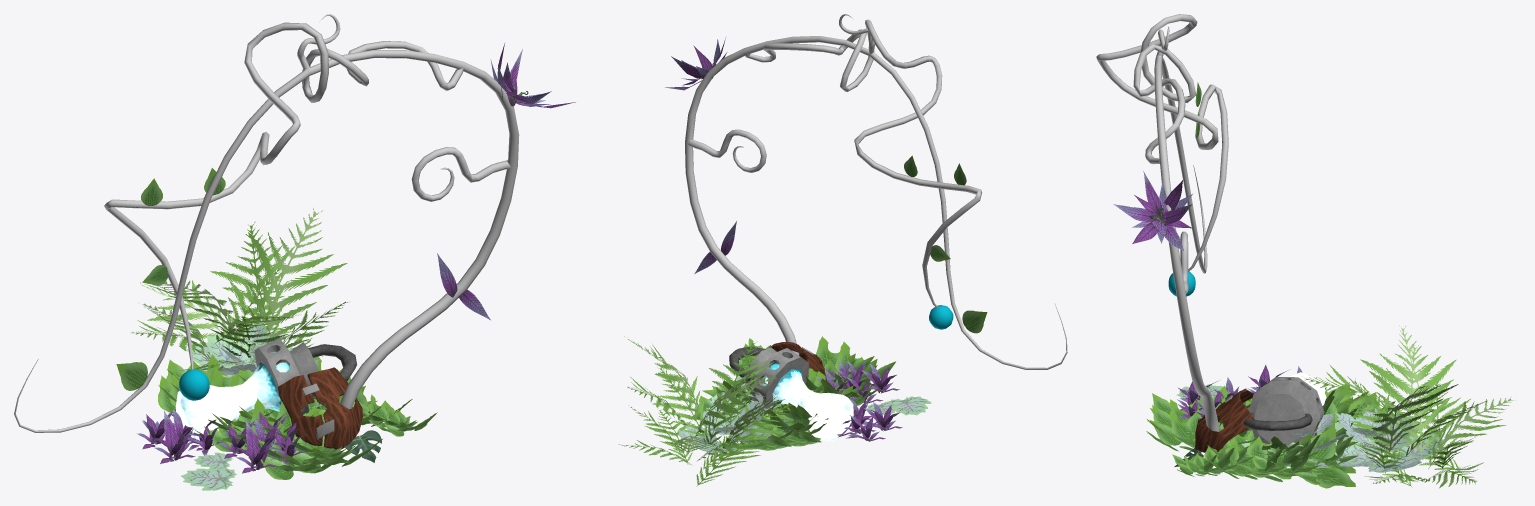
File: title_screen.fbx
3 views of the same model, side by side, from view 1: azimuth 30°, elevation 25°; view 2: azimuth 150°, elevation 25°; view 3: azimuth 270°, elevation 25° (orthographic). The views are drawn at different scales.
Parts seen in each view (by area): view 1: racine1, feuillage_1_petit1, polySurface71, polySurface8, feuillage_2_petit1, feuillage_3_grand1, feuillage_2_petit, feuillage_4_grand7, feuillage_4_grand6, feuillage_4_grand5, feuillage_2_lighter1, pPlane44 (+5 smaller); view 2: racine1, feuillage_1_petit1, polySurface71, feuillage_3_grand1, feuillage_2_petit1, feuillage_2_petit, feuillage_4_grand11, feuillage_4_grand9, feuillage_4_grand7, feuillage_4_grand6, feuillage_2_lighter1, feuillage_4_grand8 (+3 smaller); view 3: racine1, feuillage_1_petit1, polySurface71, feuillage_3_grand1, feuillage_4_grand4, feuillage_2_lighter1, polySurface8, feuillage_4_grand5, feuillage_4_grand6, feuillage_4_grand3, feuillage_4_grand1, feuillage_2_petit1 (+2 smaller).
Part boxes in pixels (bbox=[...]): racine1: bbox=[14, 14, 519, 432]; feuillage_1_petit1: bbox=[130, 208, 347, 373]; polySurface71: bbox=[175, 339, 356, 444]; polySurface8: bbox=[278, 367, 362, 449]; feuillage_2_petit1: bbox=[218, 412, 307, 473]; feuillage_3_grand1: bbox=[186, 322, 323, 422]; feuillage_2_petit: bbox=[136, 409, 225, 463]; feuillage_4_grand7: bbox=[212, 398, 355, 479]; feuillage_4_grand6: bbox=[238, 401, 382, 473]; feuillage_4_grand5: bbox=[352, 394, 437, 436]; feuillage_2_lighter1: bbox=[490, 43, 575, 108]; pPlane44: bbox=[181, 468, 236, 490]; racine1: bbox=[685, 14, 1067, 369]; feuillage_1_petit1: bbox=[618, 336, 792, 486]; polySurface71: bbox=[729, 347, 853, 441]; feuillage_3_grand1: bbox=[678, 375, 788, 452]; feuillage_2_petit1: bbox=[815, 360, 899, 403]; feuillage_2_petit: bbox=[837, 398, 902, 441]; feuillage_4_grand11: bbox=[728, 388, 842, 450]; feuillage_4_grand9: bbox=[772, 371, 871, 446]; feuillage_4_grand7: bbox=[816, 341, 895, 398]; feuillage_4_grand6: bbox=[787, 336, 874, 407]; feuillage_2_lighter1: bbox=[665, 36, 726, 90]; feuillage_4_grand8: bbox=[764, 368, 862, 443]; racine1: bbox=[1096, 14, 1228, 431]; feuillage_1_petit1: bbox=[1304, 325, 1515, 488]; polySurface71: bbox=[1243, 372, 1326, 444]; feuillage_3_grand1: bbox=[1241, 405, 1444, 472]; feuillage_4_grand4: bbox=[1207, 427, 1357, 488]; feuillage_2_lighter1: bbox=[1113, 171, 1192, 250]; polySurface8: bbox=[1195, 388, 1254, 452]; feuillage_4_grand5: bbox=[1172, 443, 1258, 476]; feuillage_4_grand6: bbox=[1146, 397, 1256, 451]; feuillage_4_grand3: bbox=[1207, 413, 1357, 473]; feuillage_4_grand1: bbox=[1247, 428, 1303, 474]; feuillage_2_petit1: bbox=[1177, 377, 1250, 418].
Bounding box in the file's own units: 743 × 661 × 574.
